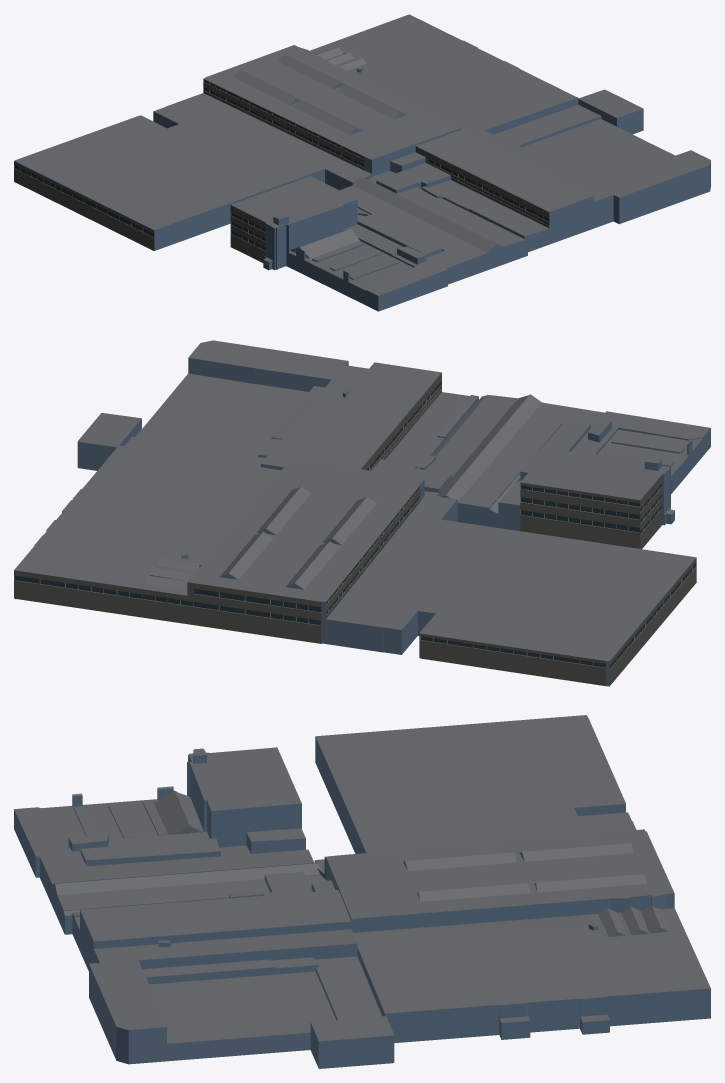
Rendered from recipe-large-aambeeldstraat-202176.glb.
3 views of the same model, one above another, from view 1: azimuth 30°, elevation 25°; view 2: azimuth 150°, elevation 25°; view 3: azimuth 270°, elevation 25° (orthographic). The views are drawn at different scales.
Parts seen in each view (by area): view 1: aambeeldstraat-202176; view 2: aambeeldstraat-202176; view 3: aambeeldstraat-202176.
Part boxes in pixels (<box>): aambeeldstraat-202176: <box>14,14,710,311</box>; aambeeldstraat-202176: <box>14,340,710,686</box>; aambeeldstraat-202176: <box>14,715,710,1068</box>.
Size of the model in its own units: 216 by 18.92 by 194.
